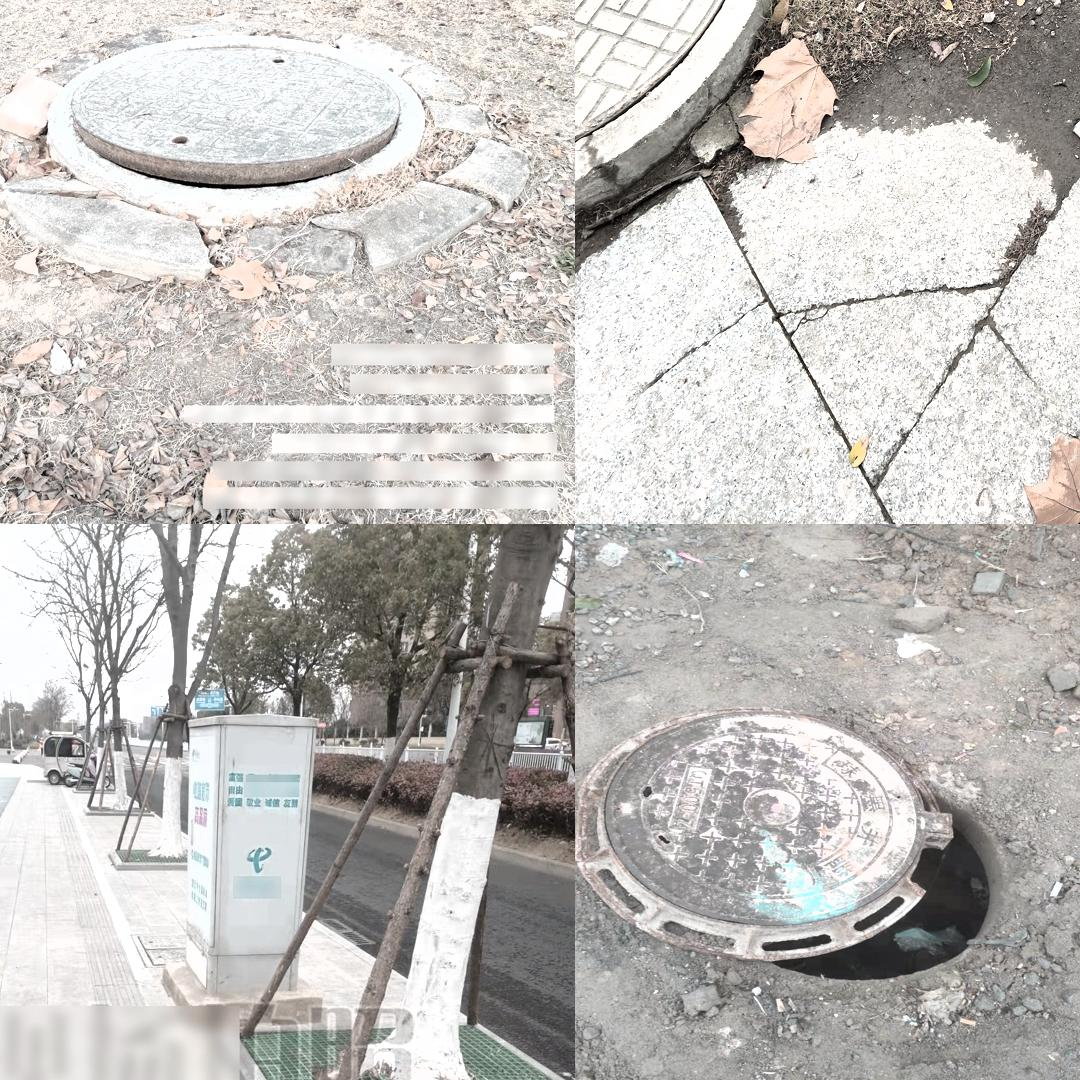good: (575, 0, 783, 214)
uncovered: (581, 708, 1003, 978), (48, 31, 426, 218)
